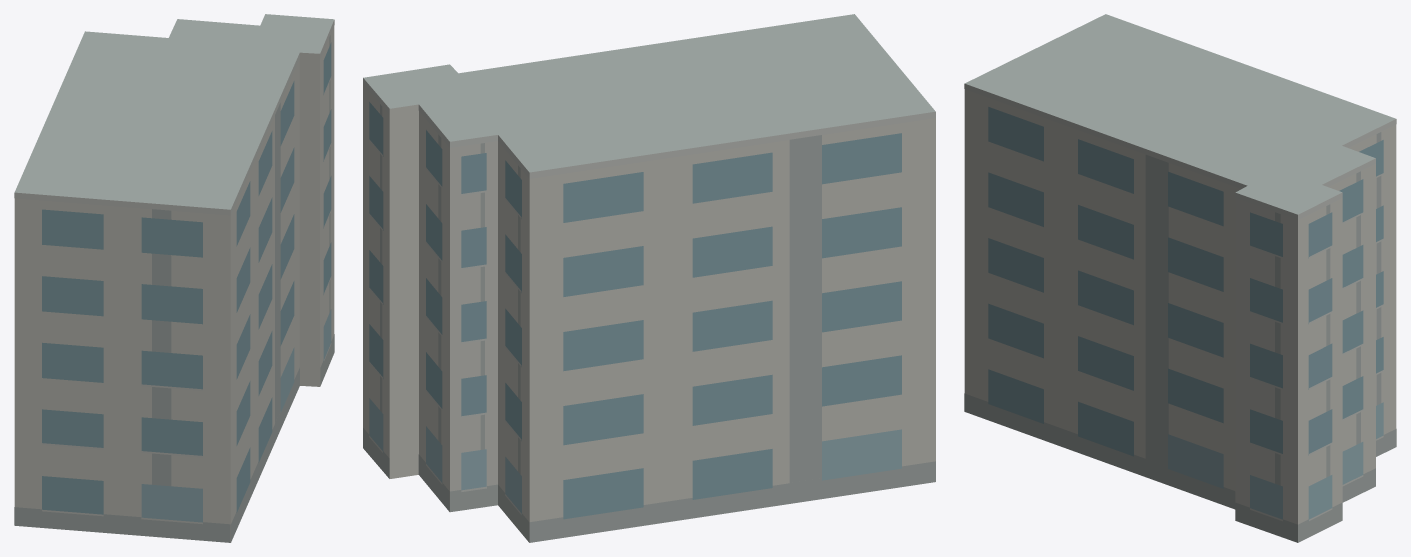
Rendered from survey-upis-32999644.glb.
3 views of the same model, side by side, from view 1: azimuth 30°, elevation 25°; view 2: azimuth 150°, elevation 25°; view 3: azimuth 270°, elevation 25° (orthographic). The views are drawn at different scales.
Parts seen in each view (by area): view 1: survey-upis-32999644.tmp; view 2: survey-upis-32999644.tmp; view 3: survey-upis-32999644.tmp.
Boxes of the visible parts, x1,y1,x2,y2 form: survey-upis-32999644.tmp: (14,14,334,542); survey-upis-32999644.tmp: (363,14,935,542); survey-upis-32999644.tmp: (964,14,1396,542).
Bounding box in the file's own units: 18.9 × 14.4 × 17.18.
